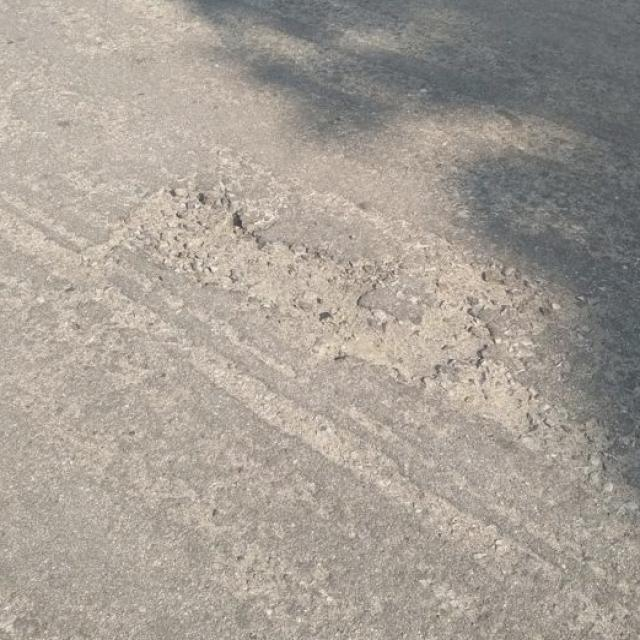road-pothole: (78, 183, 608, 496)
